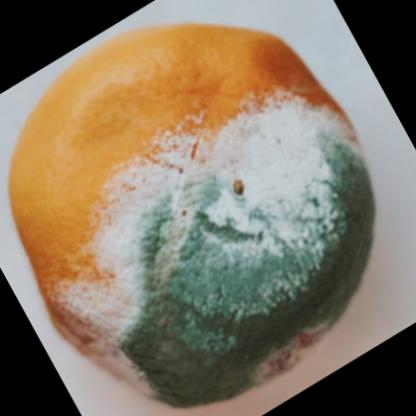rotten: (11, 26, 376, 406)
